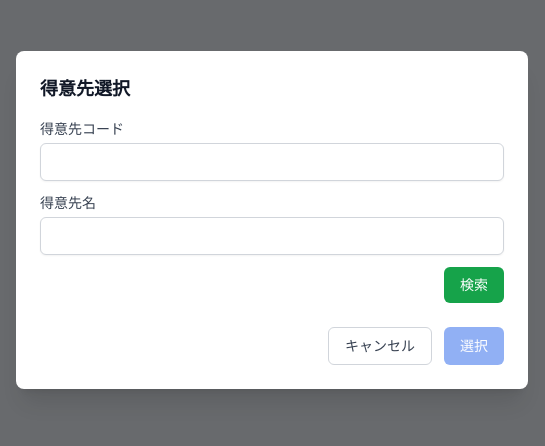
it: CustomerSelectDialog › 検索機能 › 検索結果が0件の場合「該当する得意先がありません」を表示
Step 1. Click the button "検索" → (474, 285), box [444,267,504,303]
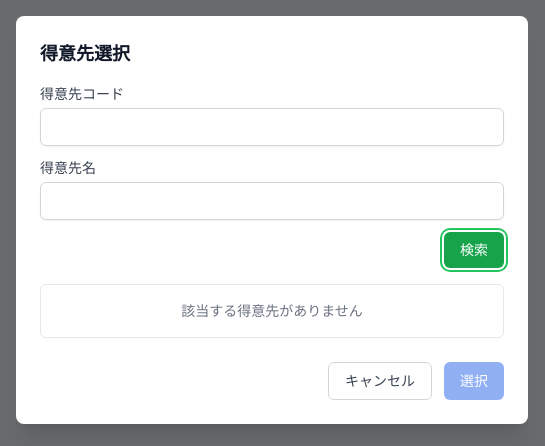
Now the text "該当する得意先がありません" is shown, box [181,303,363,319]
